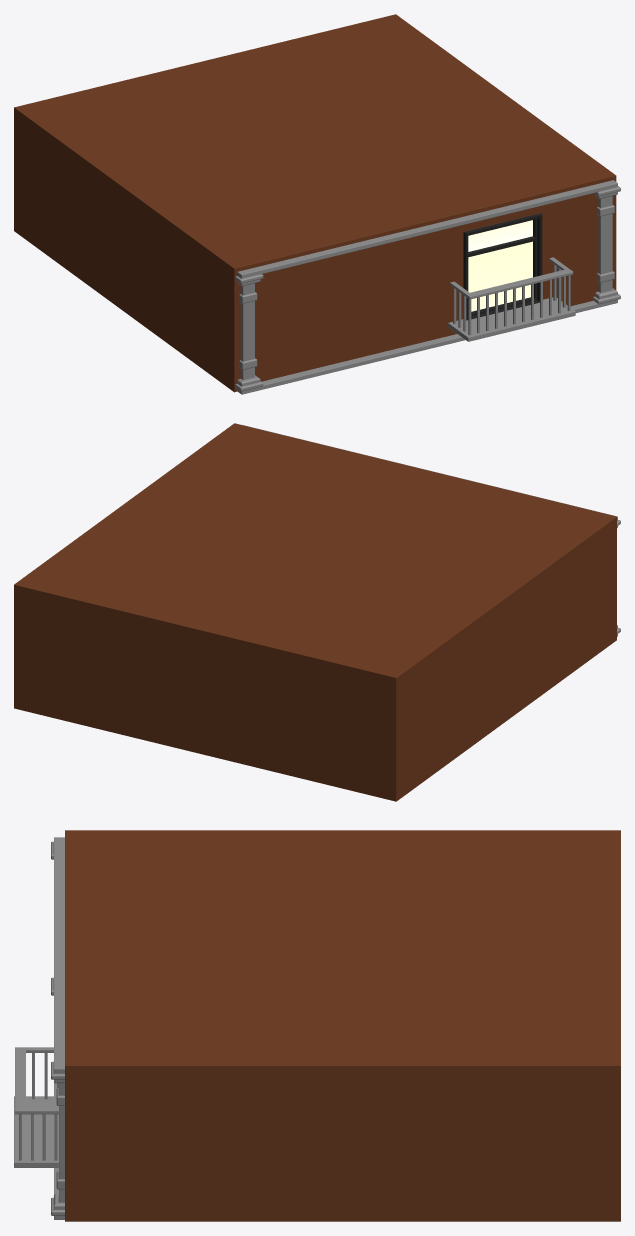
Rendered from Building3 middle.fbx.
3 renders of one model, top to bottom at view 1: azimuth 30°, elevation 25°; view 2: azimuth 150°, elevation 25°; view 3: azimuth 270°, elevation 25°, orthographic. The views are drawn at different scales.
Visible parts, largest first — view 1: MIDDLE BUILDING 2 MIDDLE; view 2: MIDDLE BUILDING 2 MIDDLE; view 3: MIDDLE BUILDING 2 MIDDLE.
Part boxes in pixels (x1,y1,x2,y2): MIDDLE BUILDING 2 MIDDLE: (14, 14, 620, 394); MIDDLE BUILDING 2 MIDDLE: (14, 423, 620, 801); MIDDLE BUILDING 2 MIDDLE: (14, 830, 620, 1221).
Size of the model in its own units: 1001 by 310 by 1092.
